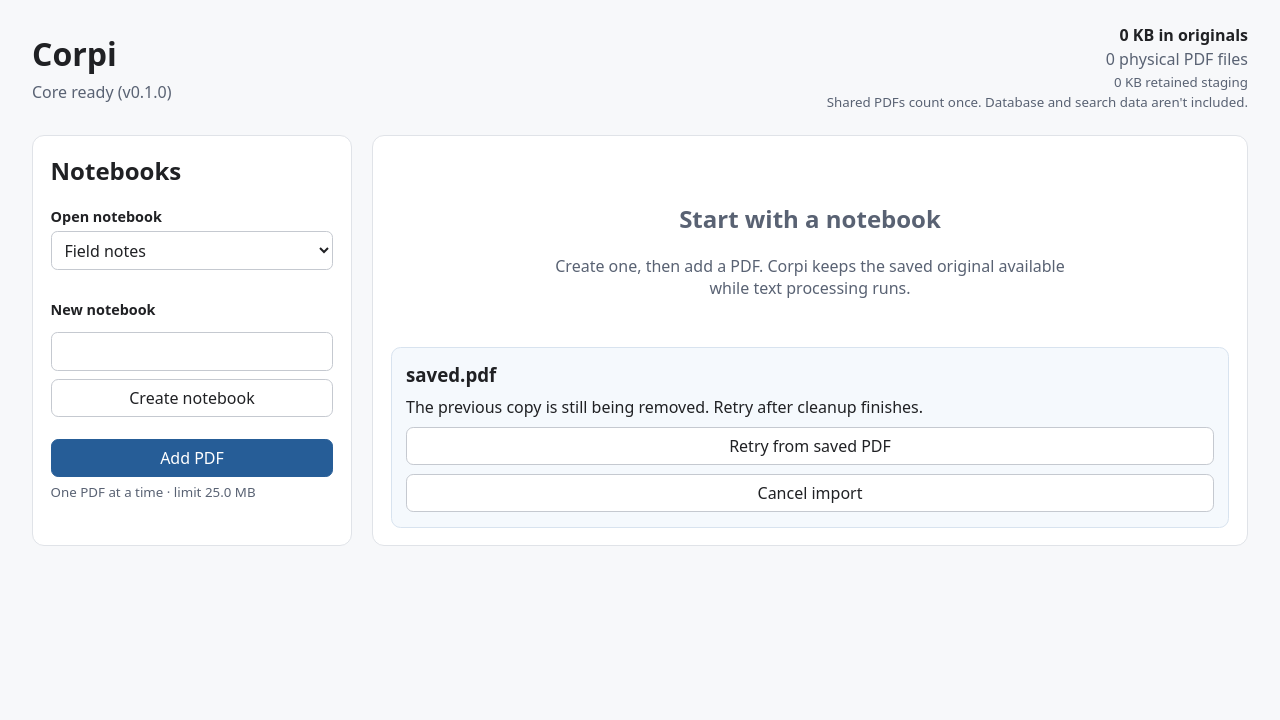
Test: retries a restored attempt and removes its status after a committed result
Click the button "Retry from saved PDF". click: (810, 446)
box: [406,427,1214,465]
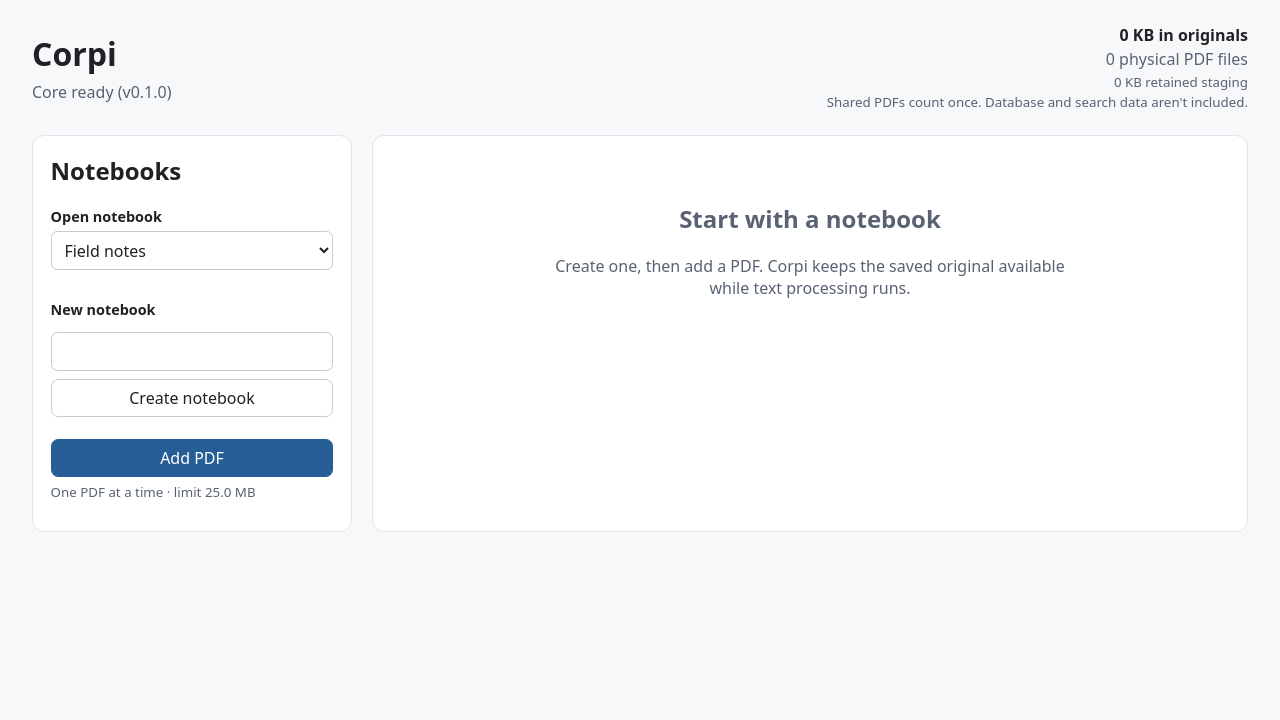
Expected: the button "Retry from saved PDF" is gone
